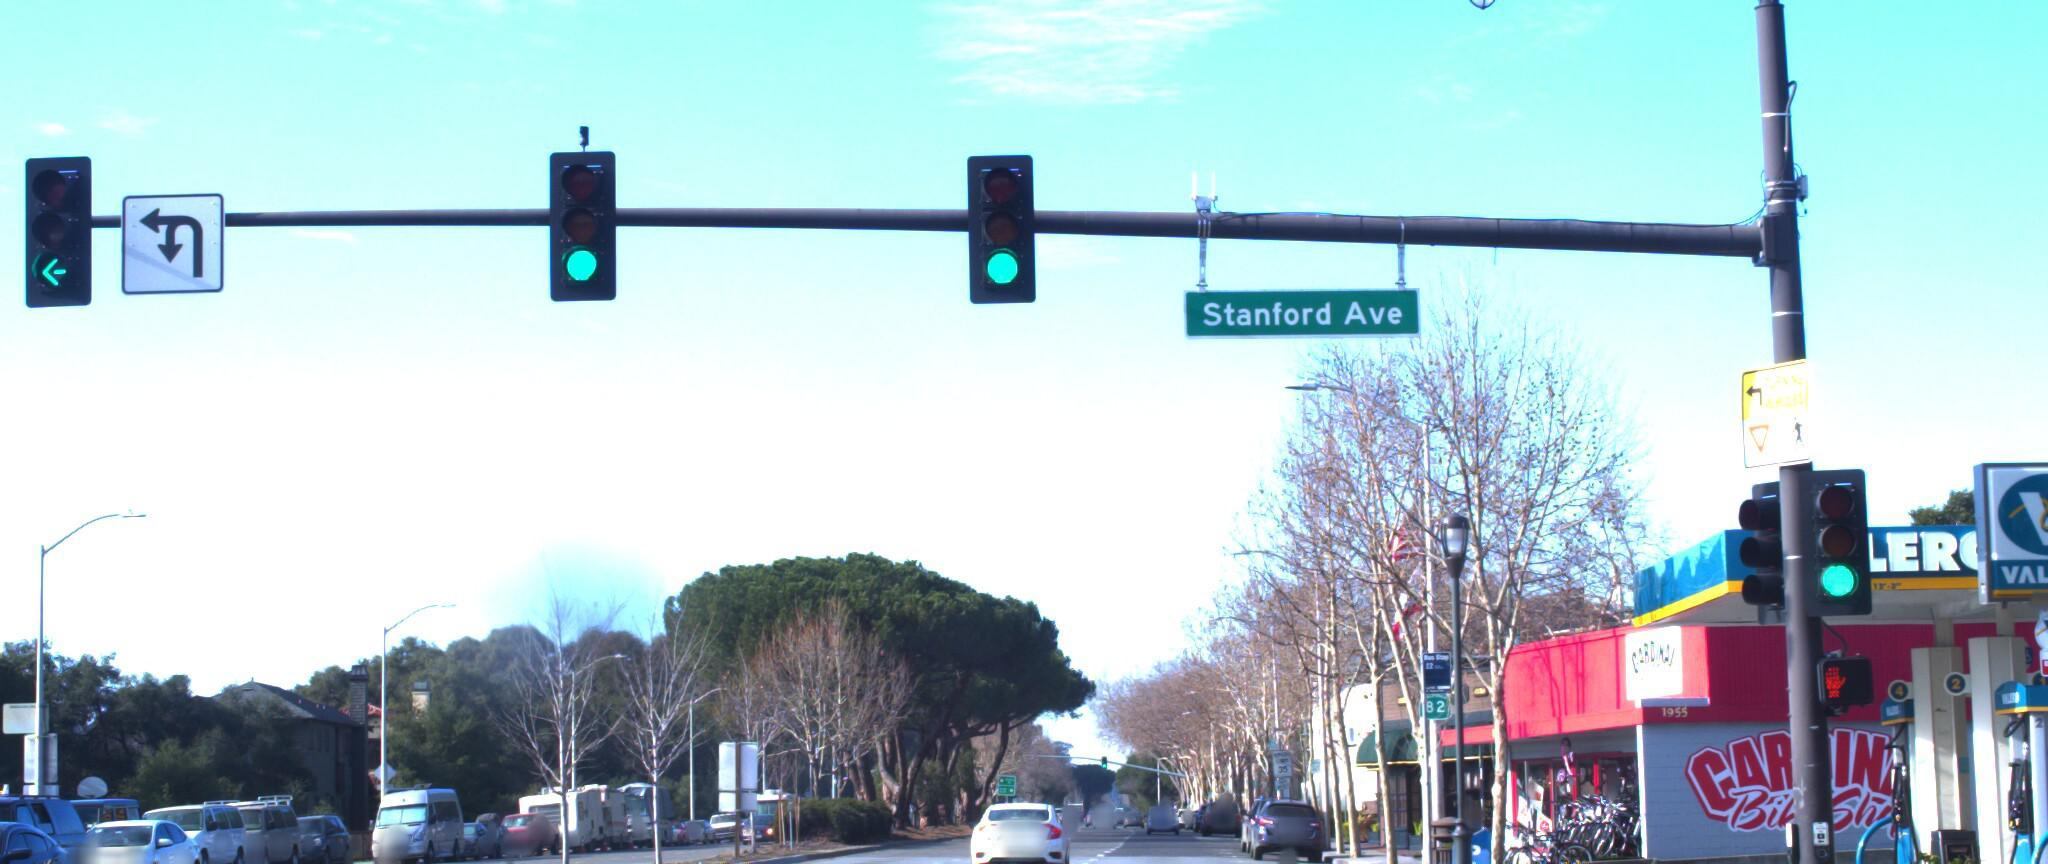bicycle: (1488, 809, 1576, 864)
car: (108, 786, 259, 864), (30, 809, 225, 864), (960, 780, 1075, 864), (0, 808, 107, 864), (1242, 777, 1320, 852), (0, 762, 37, 864)
